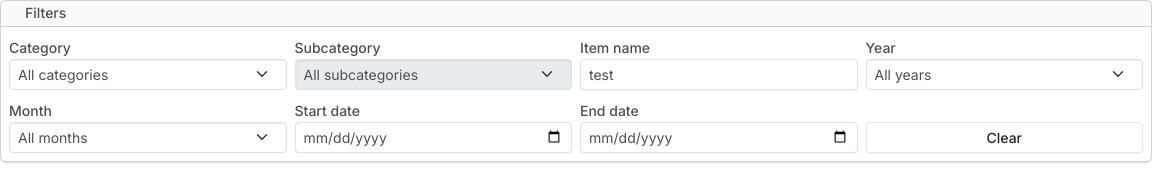
ExpenseFilters component › clears item name input when Clear button is clicked
Check: the field named "Filter by item name" holds "test", box [580,59,858,90]
Note: Click clear button
Click the button with aria-label "Clear filters": point(1004, 137) [866,122,1143,153]
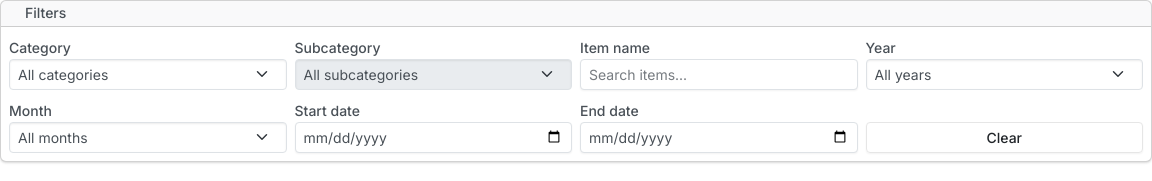
Check: the field named "Filter by item name" is empty, box [580,59,858,90]
